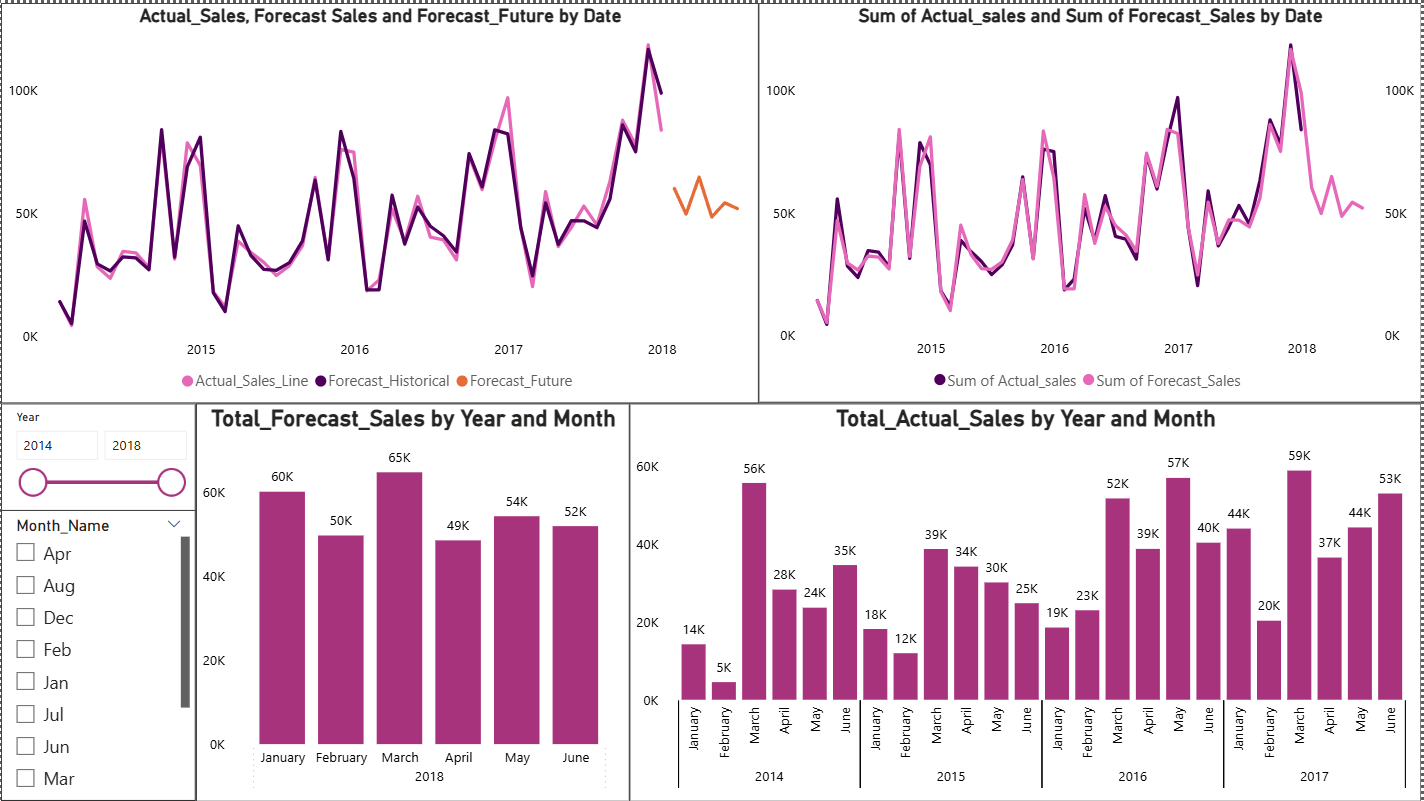

The page's visual inventory and layout, read from the dashboard file:
{"tool":"powerbi","page":{"name":"Sales trend line","canvas":[1280,720],"ordinal":1},"visuals":[{"type":"lineChart","title":"Actual_Sales, Forecast Sales and Forecast_Future by Date","fields":{"Category":["sales_forecast_powerbi.Date.Variation.Date Hierarchy.Year"],"Y":["sales_forecast_powerbi.Actual_Sales_Line","sales_forecast_powerbi.Forecast_Historical","sales_forecast_powerbi.Forecast_Future"]},"box":[9.3,0,673.1,359.8],"z":0},{"type":"lineChart","fields":{"Category":["sales_forecast_powerbi.Date.Variation.Date Hierarchy.Year"],"Y":["Sum(sales_forecast_powerbi.Actual_sales)"],"Y2":["Sum(sales_forecast_powerbi.Forecast_Sales)"]},"box":[682.4,0,597.1,359.8],"z":1000},{"type":"clusteredColumnChart","fields":{"Category":["sales_forecast_powerbi.Year","sales_forecast_powerbi.YearMonth.Variation.Date Hierarchy.Month"],"Y":["sales_forecast_powerbi.Total_Forecast_Sales"]},"box":[175.6,360.4,390.7,358.9],"z":2000},{"type":"clusteredColumnChart","fields":{"Category":["sales_forecast_powerbi.Year","sales_forecast_powerbi.YearMonth.Variation.Date Hierarchy.Month"],"Y":["sales_forecast_powerbi.Total_Actual_Sales"]},"box":[566.3,360.4,713.2,358.9],"z":3000},{"type":"slicer","fields":{"Values":["sales_forecast_powerbi.YearMonth.Variation.Date Hierarchy.Year"]},"box":[0,360.4,175.6,96.9],"z":4000},{"type":"slicer","fields":{"Values":["sales_forecast_powerbi.Month_Name"]},"box":[0,457.3,175.6,262],"z":5000}]}

Visuals, with their boxes in screenshot pixels (x1, y1, x2, y2), scaled from the page's 1280x720 canvas onto the 1424x801 screenshot:
"Actual_Sales, Forecast Sales and Forecast_Future by Date" lineChart: bbox=[10, 0, 759, 400]
lineChart - sales_forecast_powerbi.Date.Variation.Date Hierarchy.Year x Sum(sales_forecast_powerbi.Actual_sales): bbox=[759, 0, 1423, 400]
clusteredColumnChart - sales_forecast_powerbi.Year x sales_forecast_powerbi.YearMonth.Variation.Date Hierarchy.Month: bbox=[195, 401, 630, 800]
clusteredColumnChart - sales_forecast_powerbi.Year x sales_forecast_powerbi.YearMonth.Variation.Date Hierarchy.Month: bbox=[630, 401, 1423, 800]
slicer - sales_forecast_powerbi.YearMonth.Variation.Date Hierarchy.Year: bbox=[0, 401, 195, 509]
slicer - sales_forecast_powerbi.Month_Name: bbox=[0, 509, 195, 800]
